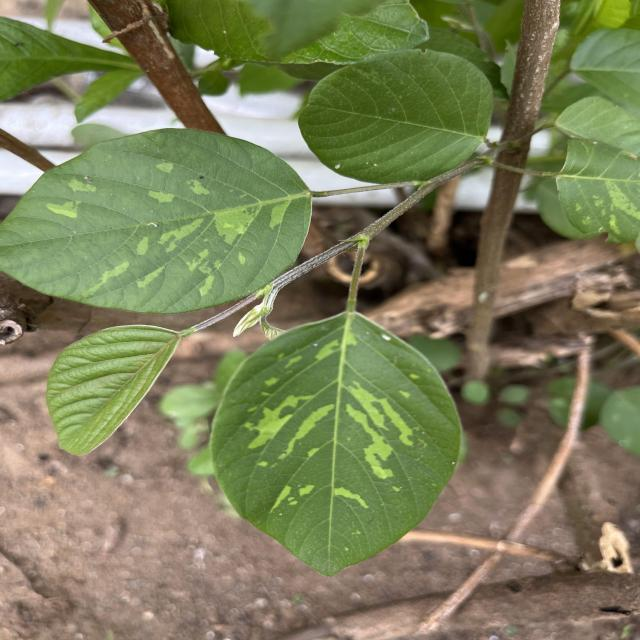Desmodium gangeticum: (202, 309, 467, 582), (0, 124, 320, 316)
